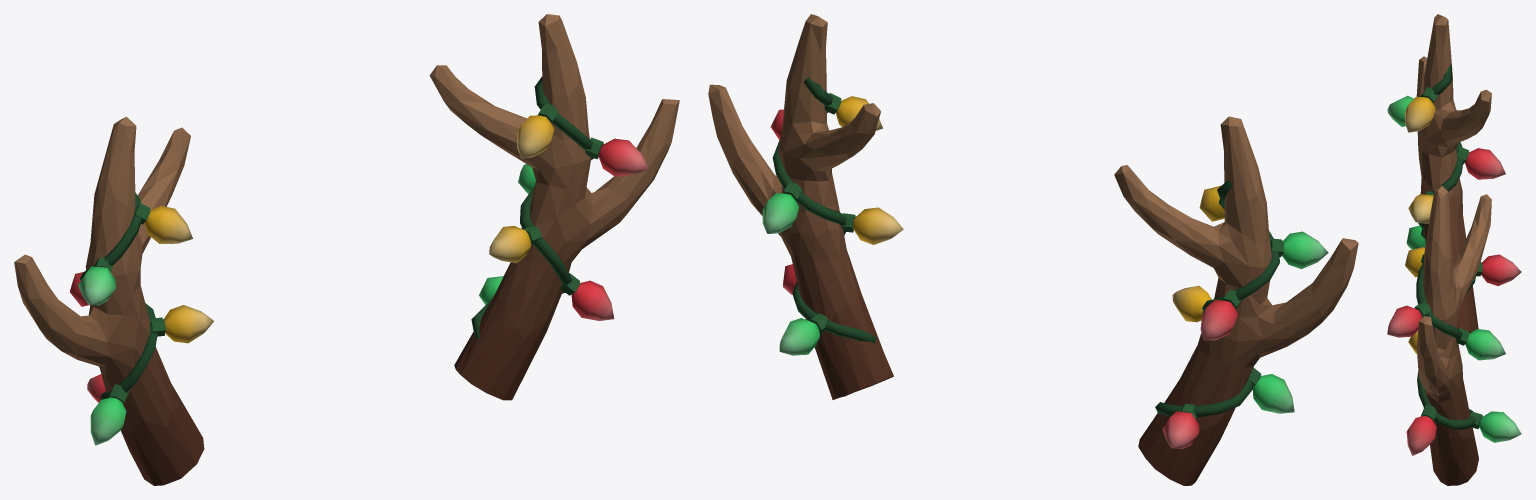
The model's file is Cosmetic_Reindeer_Antlers.glb.
3 renders of one model, left to right at view 1: azimuth 30°, elevation 25°; view 2: azimuth 150°, elevation 25°; view 3: azimuth 270°, elevation 25°, orthographic. The views are drawn at different scales.
Visible parts, largest first — view 1: Cosmetic_Reindeer_Antlers; view 2: Cosmetic_Reindeer_Antlers; view 3: Cosmetic_Reindeer_Antlers.
Boxes of the visible parts, x1,y1,x2,y2 form: Cosmetic_Reindeer_Antlers: (14, 14, 679, 485); Cosmetic_Reindeer_Antlers: (708, 14, 1358, 485); Cosmetic_Reindeer_Antlers: (1387, 14, 1521, 485).
Bounding box in the file's own units: 1.28 × 0.6977 × 0.2721.
